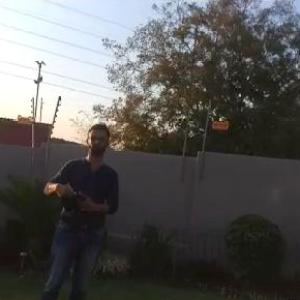follow: (32, 112, 125, 299)
